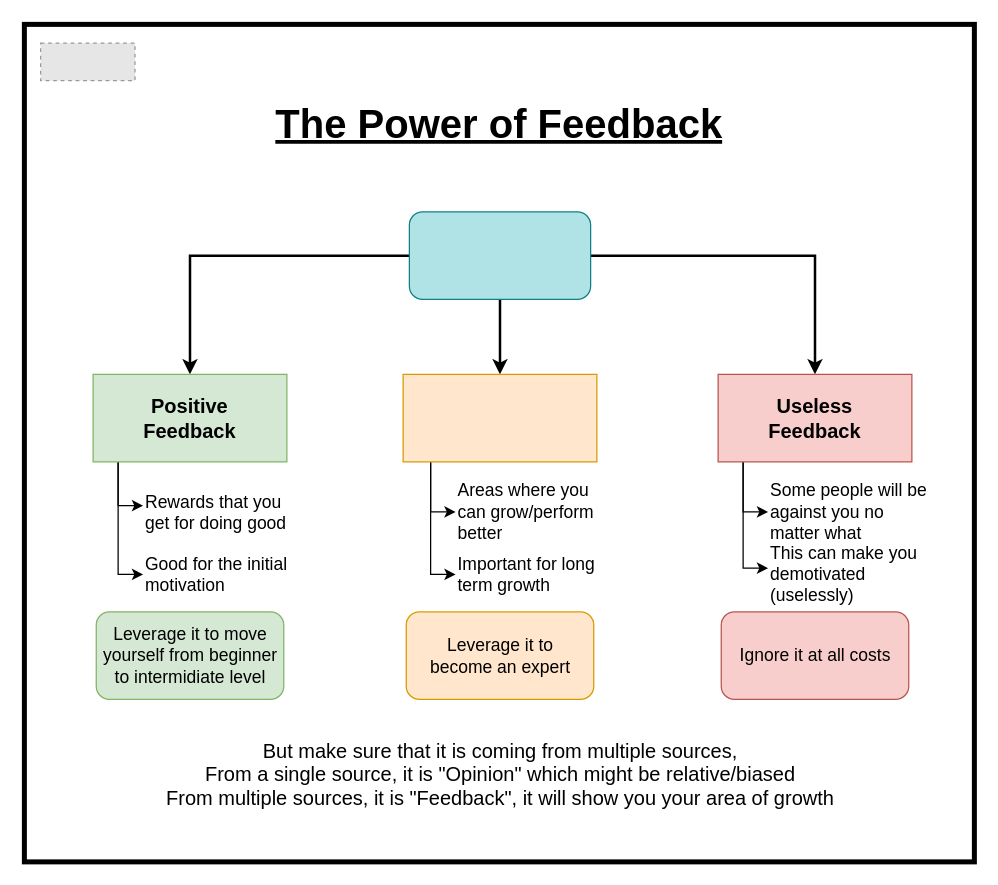
This 998x885 diagram has some shape labels left out. Grey dashed boxes stand in for pictures. The shapes that lost their labels are listed below. From the top down, each one's box as (x1, y1, x2, y2) in pixels, then its label:
(408, 211, 591, 299): Types of Feedback
(402, 373, 597, 462): Constructive/ Negative Feedback
